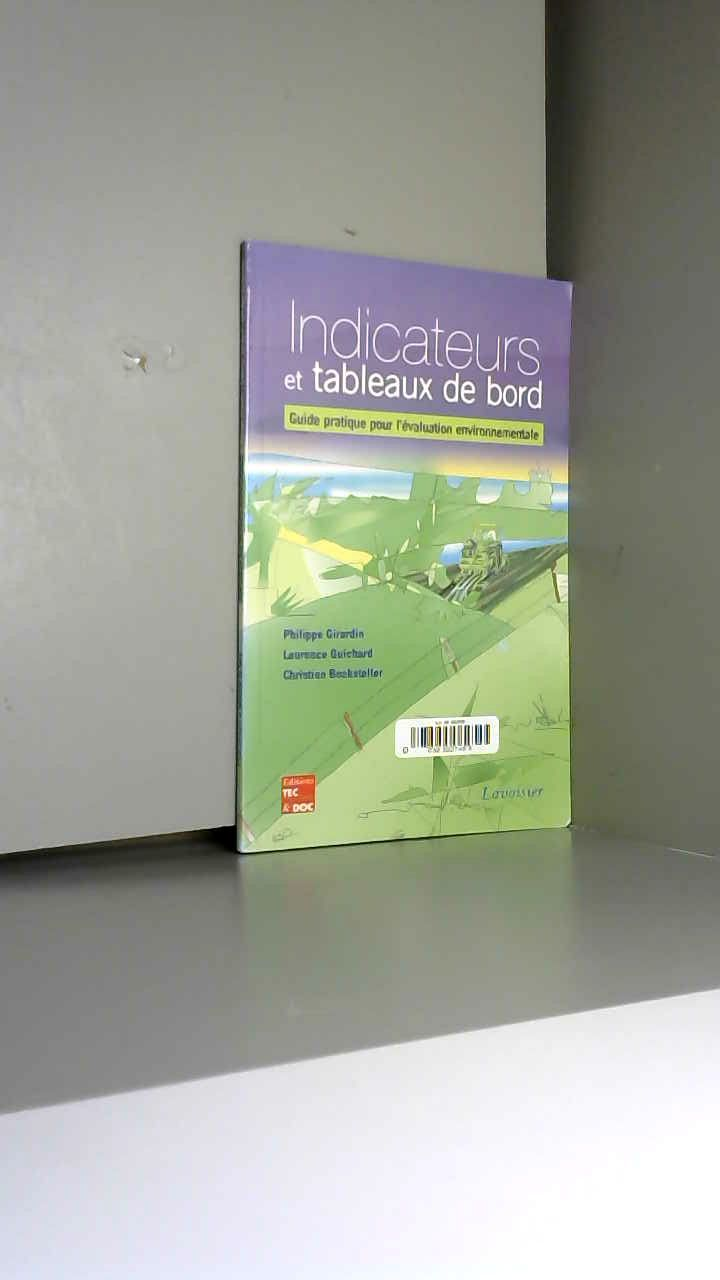book: (210, 210, 720, 906)
